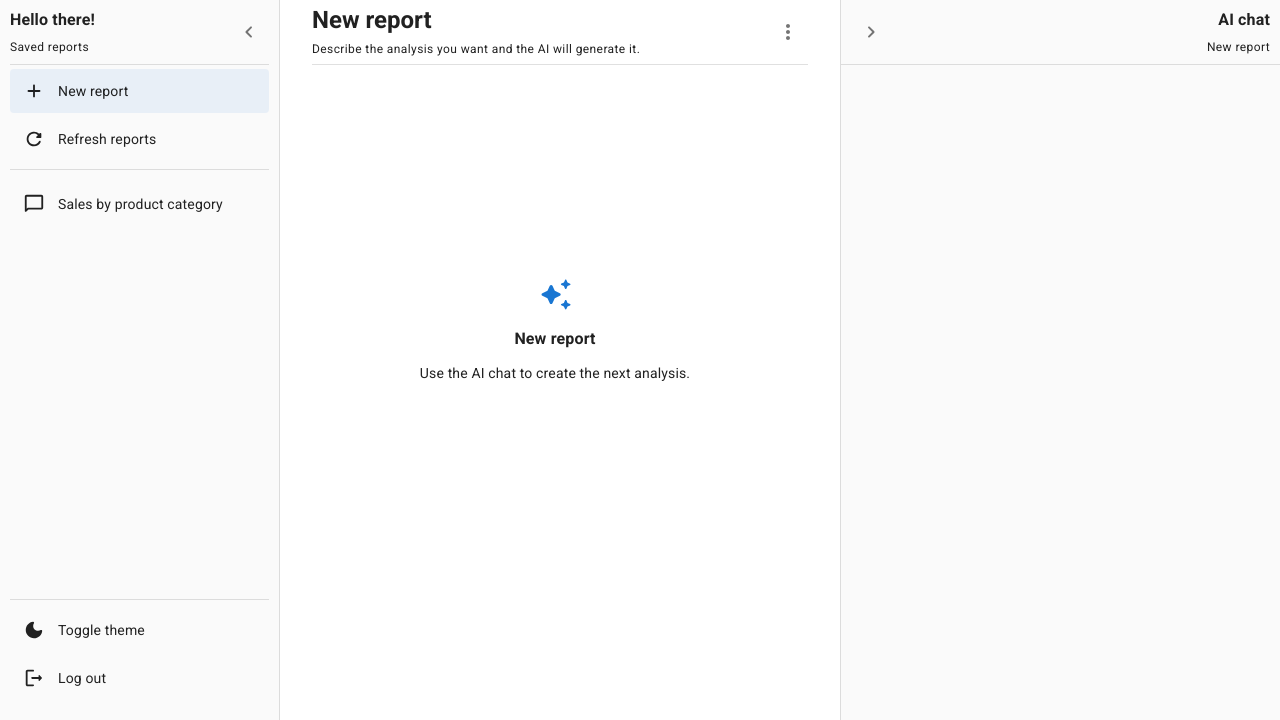
it: <HomePage /> › uses the URL to open reports and returns to the root URL for a new report
Expected: the text "Use the AI chat to create the next analysis." is shown, [420,363,690,383]
What coordinates should you click on to do the following:
click the button "Sales by product category"
I would click on:
 (123, 204)
Its box is [23,193,223,215].
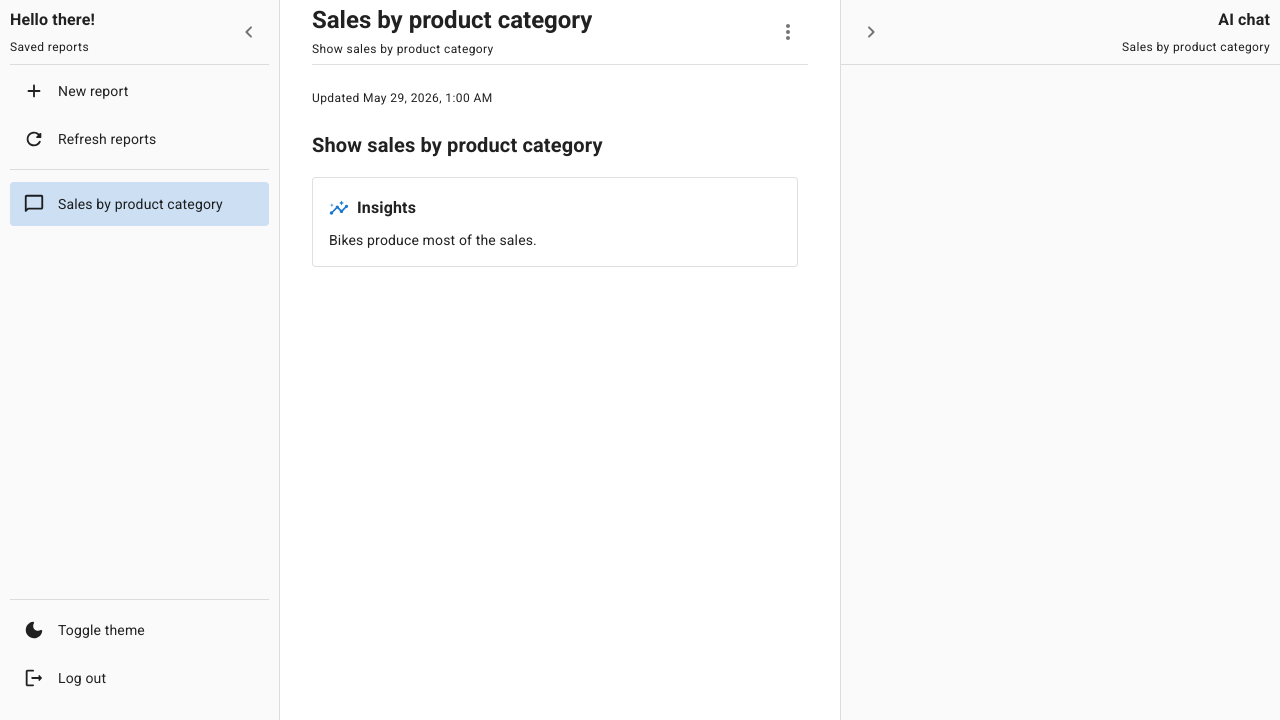
Expected: the heading "Sales by product category" is shown, [312,4,592,36]
What coordinates should you click on to do the following:
click the button "New report"
I would click on:
 (76, 91)
Its box is [23,80,128,102].
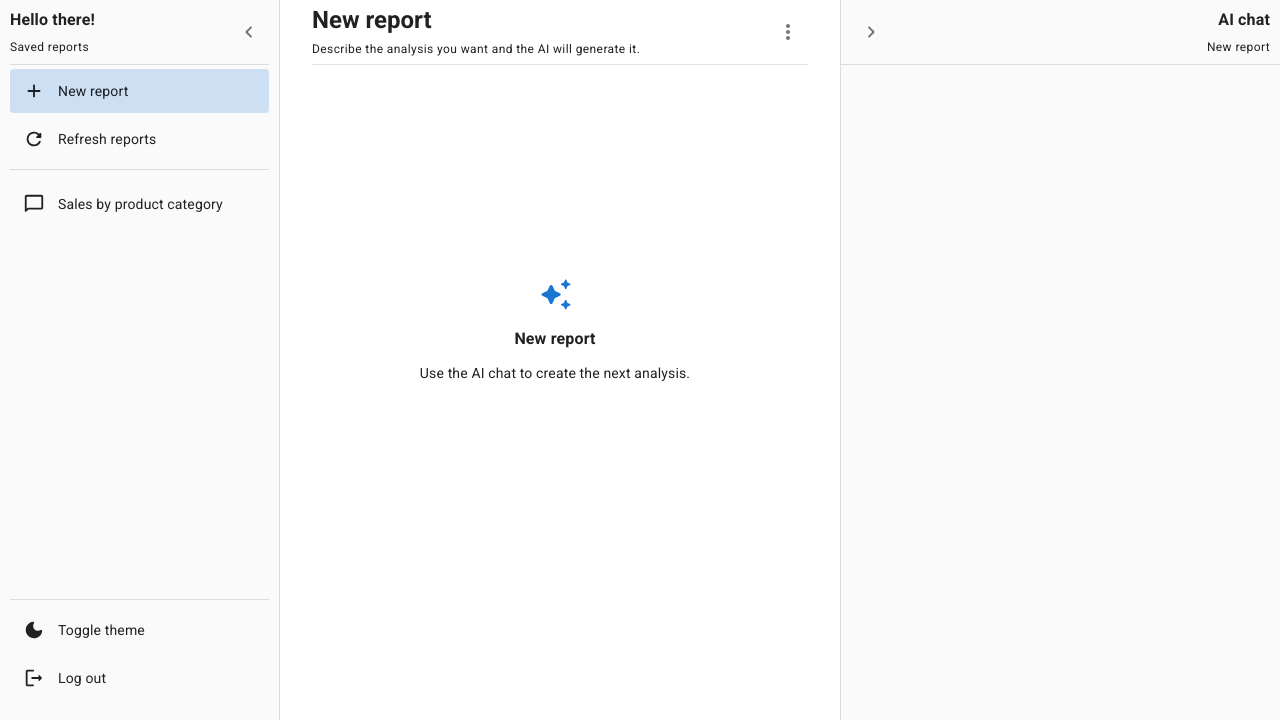
Expected: the text "Use the AI chat to create the next analysis." is shown, [420,363,690,383]
